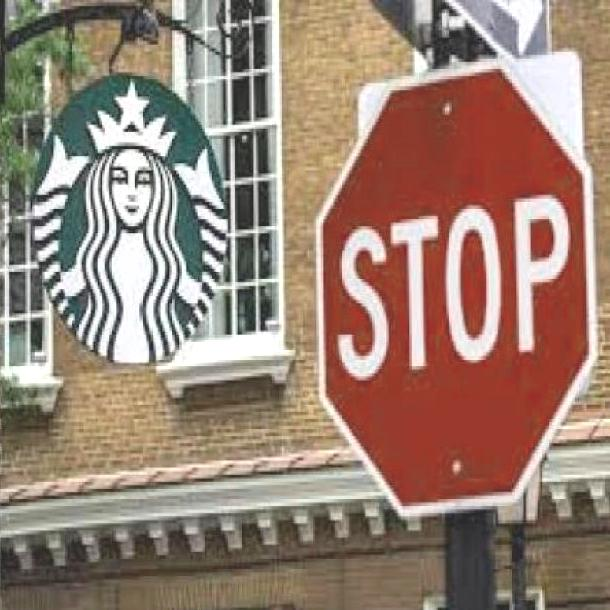stop_sign: (313, 54, 598, 520)
